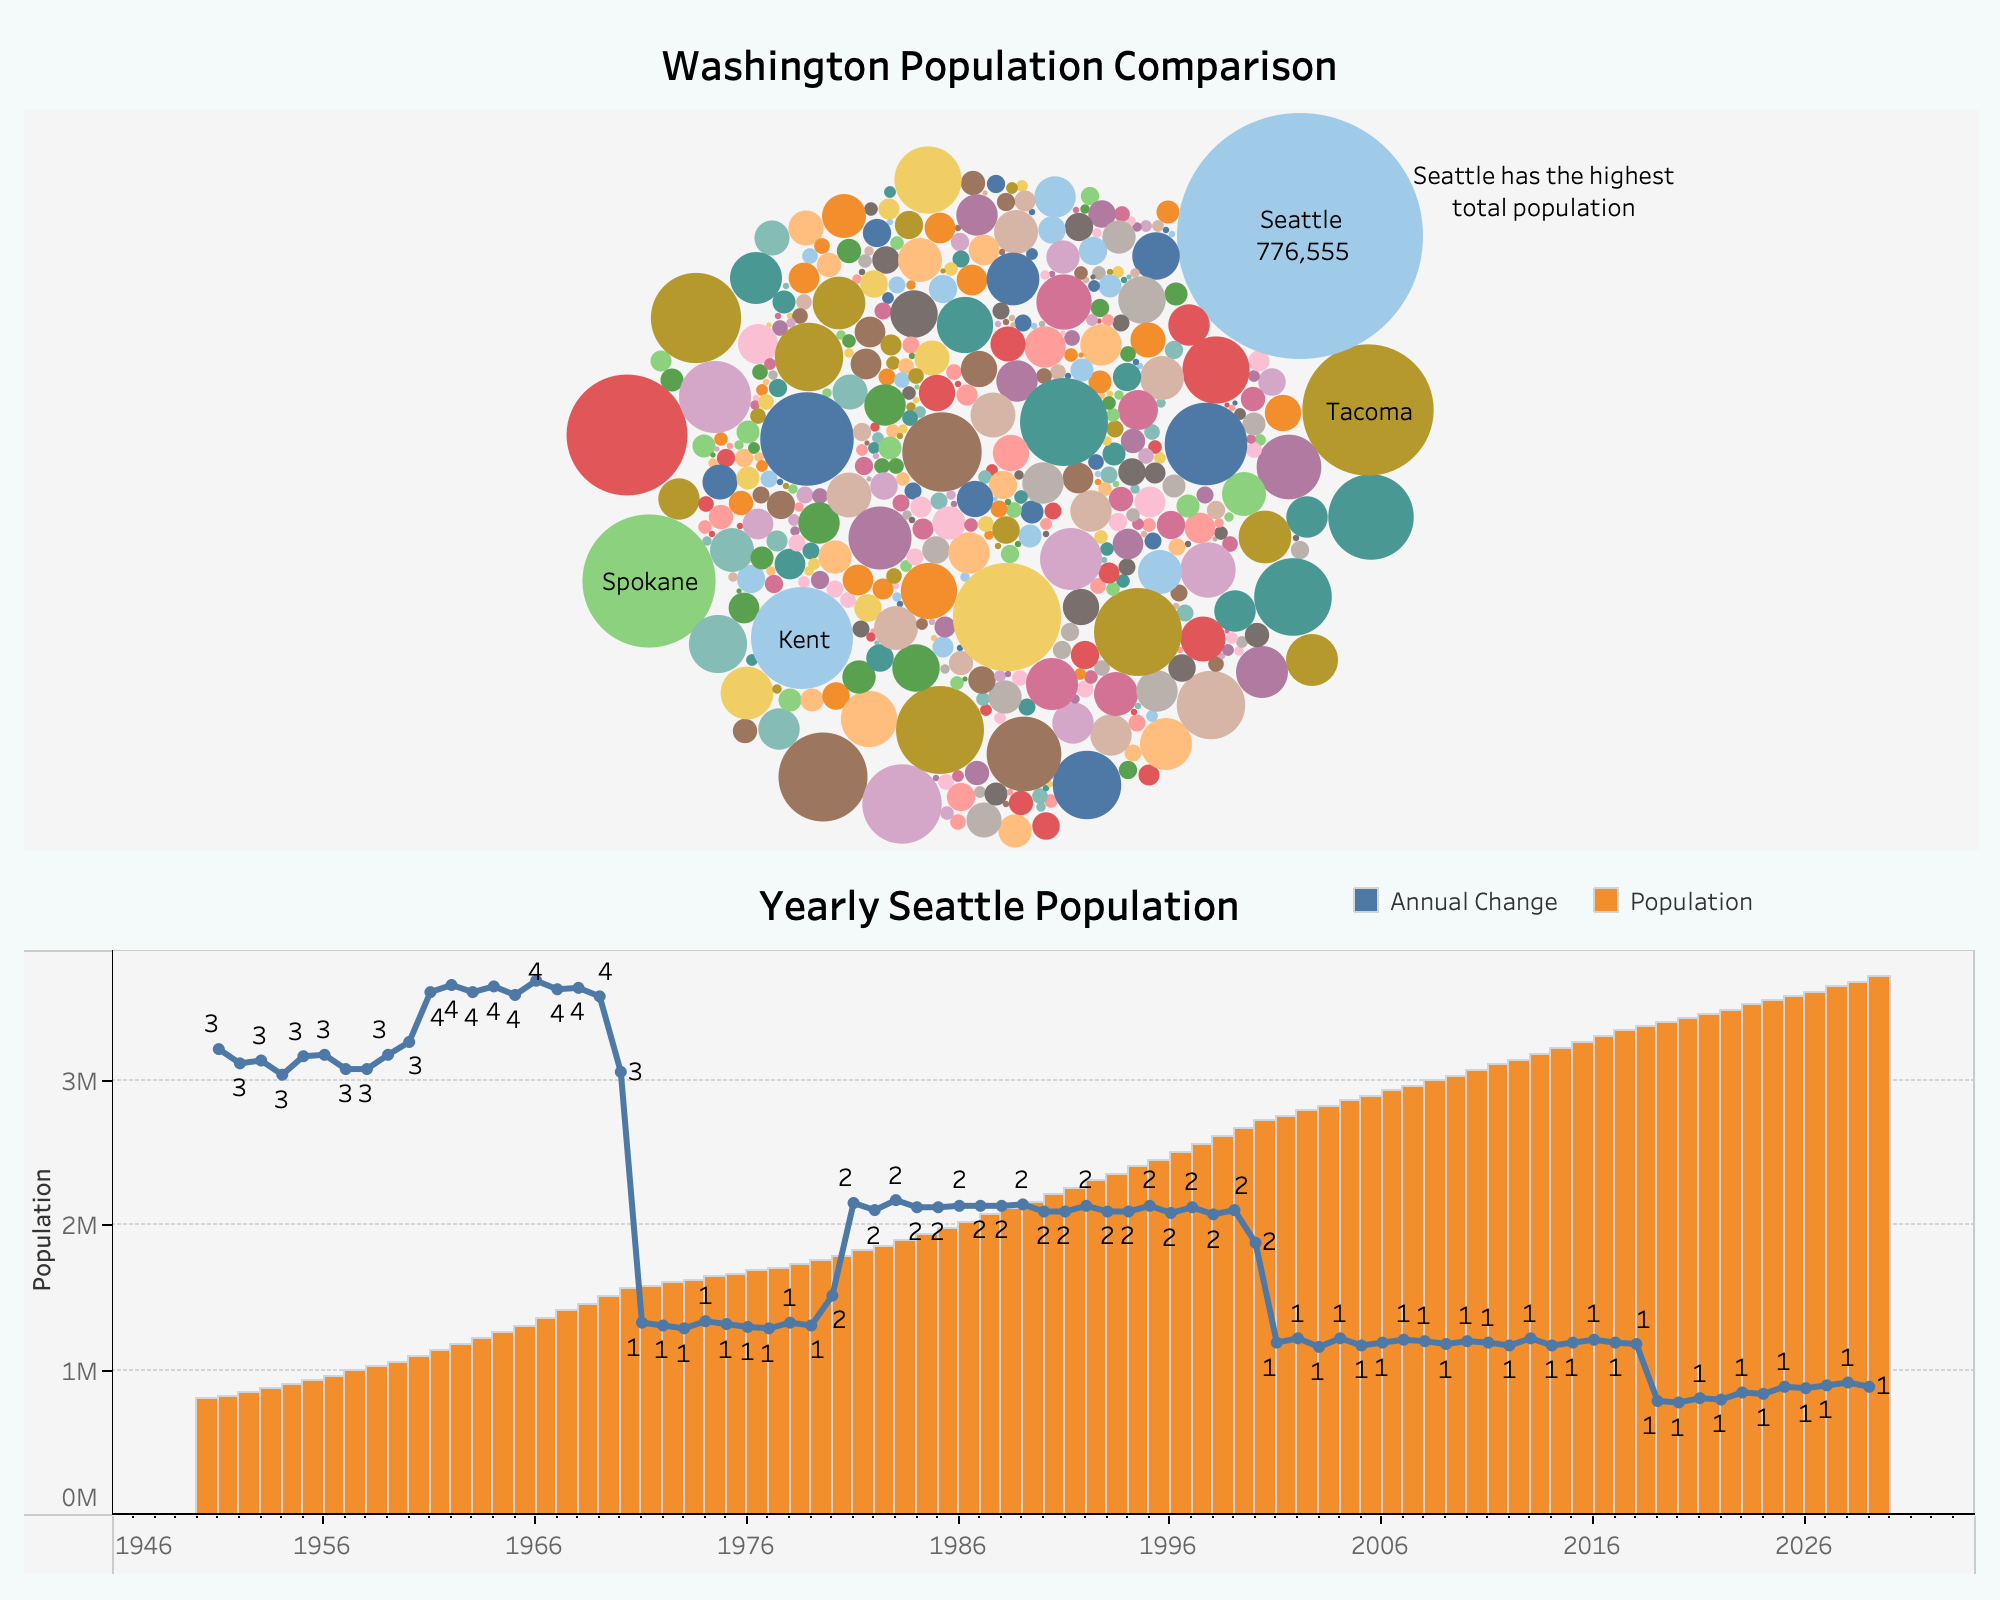

Layout of this report page (visuals, bound fields, positions):
{"tool":"tableau","page":{"name":"Population","canvas":[1000,800],"ordinal":1},"visuals":[{"type":"worksheet","title":"Pop Comparison","mark":"Circle","box":[8,8,984,420]},{"type":"text","box":[699,69,146,53]},{"type":"worksheet","title":"Pop and growth trend","mark":"Bar","rows":["Population","Annual Change"],"cols":["date"],"box":[8,428,984,364]},{"type":"legend","title":"Pop and growth trend","param":"[federated.0hkag2k1fsjokd1exyx6p00w30mz].[:Measure Names]","box":[673,440,295,30]}]}

Visuals, with their boxes in screenshot pixels (x1, y1, x2, y2), scaled from the page's 1000x800 canvas onto the 2000x1600 screenshot:
"Pop Comparison" worksheet (Circle marks): (16, 16, 1984, 856)
text: (1398, 138, 1690, 244)
"Pop and growth trend" worksheet (Bar marks): (16, 856, 1984, 1584)
"Pop and growth trend" legend: (1346, 880, 1936, 940)
